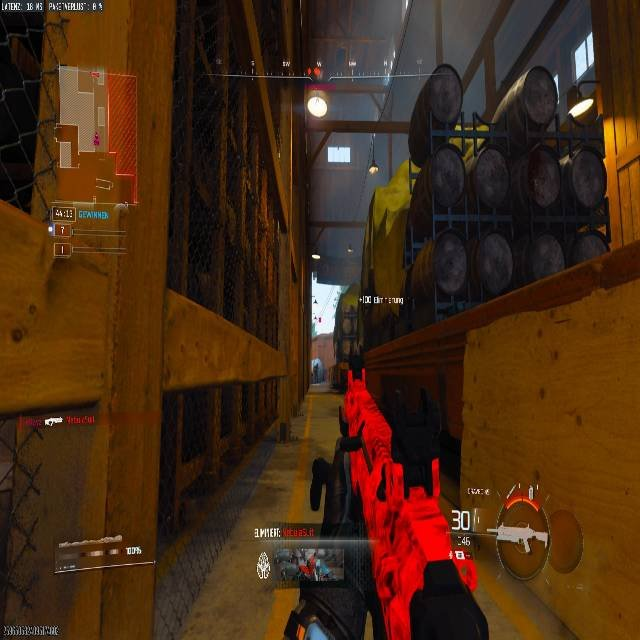player: (312, 360, 319, 383)
